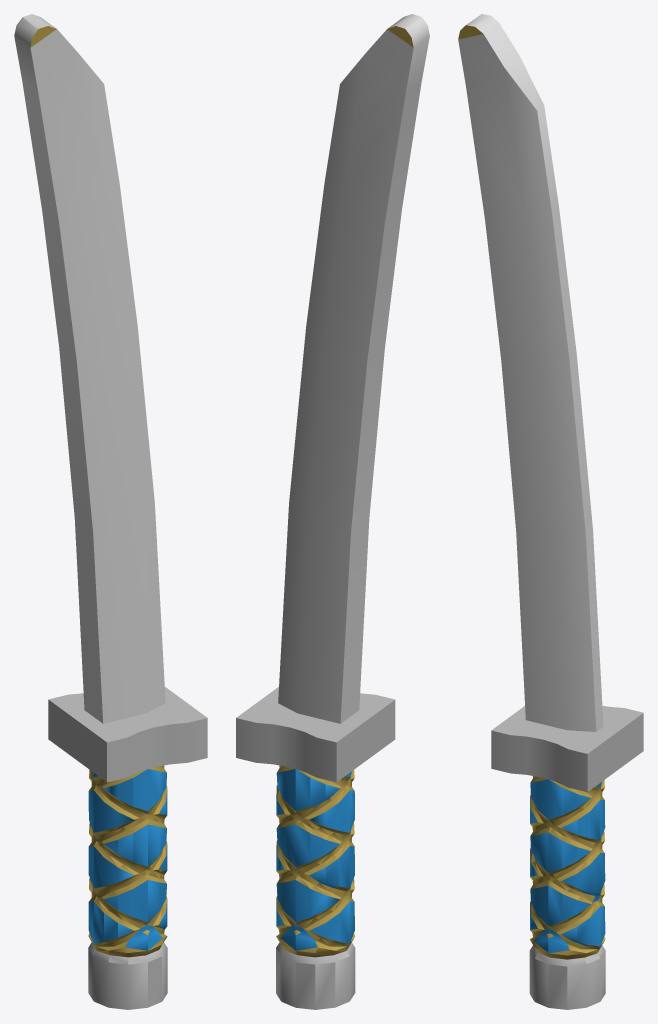
The picture shows the model from 3 angles, left to right: view 1: azimuth 30°, elevation 25°; view 2: azimuth 150°, elevation 25°; view 3: azimuth 330°, elevation 25°; orthographic projection. The views are drawn at different scales.
Visible parts, largest first — view 1: SOLID-WHITE_115-material.003, SOLID-WHITE_115-material.001, SOLID-WHITE_115-material.002, SOLID-WHITE_115-material.350; view 2: SOLID-WHITE_115-material.003, SOLID-WHITE_115-material.001, SOLID-WHITE_115-material.002, SOLID-WHITE_115-material.350; view 3: SOLID-WHITE_115-material.003, SOLID-WHITE_115-material.001, SOLID-WHITE_115-material.002, SOLID-WHITE_115-material.350.
Part boxes in pixels (bbox=[...]): SOLID-WHITE_115-material.003: bbox=[14, 14, 165, 723]; SOLID-WHITE_115-material.001: bbox=[48, 687, 207, 1009]; SOLID-WHITE_115-material.002: bbox=[88, 769, 167, 950]; SOLID-WHITE_115-material.350: bbox=[30, 26, 167, 957]; SOLID-WHITE_115-material.003: bbox=[278, 14, 429, 723]; SOLID-WHITE_115-material.001: bbox=[236, 687, 395, 1009]; SOLID-WHITE_115-material.002: bbox=[276, 769, 354, 950]; SOLID-WHITE_115-material.350: bbox=[276, 26, 413, 957]; SOLID-WHITE_115-material.003: bbox=[458, 14, 603, 731]; SOLID-WHITE_115-material.001: bbox=[491, 705, 643, 1009]; SOLID-WHITE_115-material.002: bbox=[530, 779, 605, 953]; SOLID-WHITE_115-material.350: bbox=[458, 25, 605, 959].
Bounding box in the file's own units: 31.75 × 193 × 20.68.
